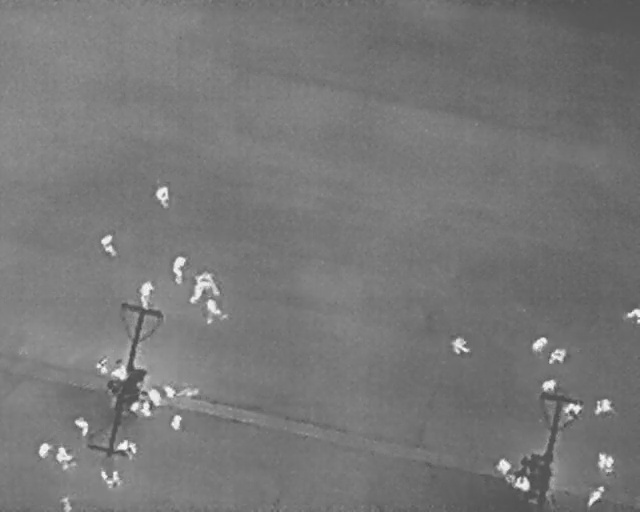Person: (191, 270, 220, 302), (584, 483, 607, 510), (98, 468, 123, 492), (202, 299, 223, 326), (117, 439, 142, 461), (138, 278, 155, 310), (170, 254, 187, 285), (57, 444, 75, 469), (529, 333, 549, 355), (451, 335, 470, 357), (592, 397, 614, 416), (98, 234, 116, 256), (547, 347, 567, 366), (154, 186, 170, 208), (112, 358, 127, 381), (74, 418, 90, 439), (148, 386, 163, 408), (562, 403, 583, 417), (58, 494, 75, 511), (37, 441, 51, 461), (514, 476, 531, 490), (170, 413, 182, 432), (626, 307, 640, 323), (496, 459, 511, 473), (596, 452, 606, 472), (604, 454, 615, 472), (95, 357, 107, 373), (543, 379, 555, 392), (164, 383, 175, 397), (129, 400, 140, 414), (142, 400, 150, 417)
